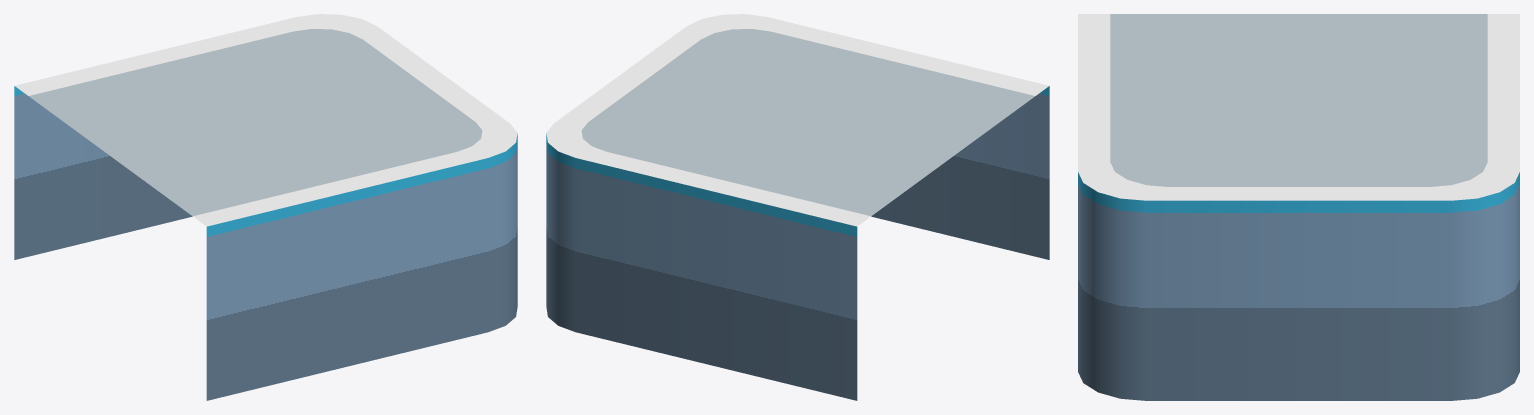
Rendered from TileFace0010Corner____.fbx.
3 views of the same model, side by side, from view 1: azimuth 30°, elevation 25°; view 2: azimuth 150°, elevation 25°; view 3: azimuth 270°, elevation 25° (orthographic). The views are drawn at different scales.
Parts seen in each view (by area): view 1: Face0010Corner____v1; view 2: Face0010Corner____v1; view 3: Face0010Corner____v1.
Boxes of the visible parts, x1=… form: Face0010Corner____v1: x1=14, y1=14, x2=517, y2=400; Face0010Corner____v1: x1=546, y1=14, x2=1049, y2=400; Face0010Corner____v1: x1=1078, y1=14, x2=1519, y2=400.
Size of the model in its own units: 100 by 50 by 100.
